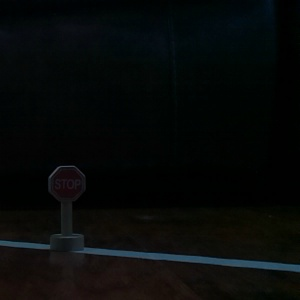stop sign: (45, 162, 88, 254)
